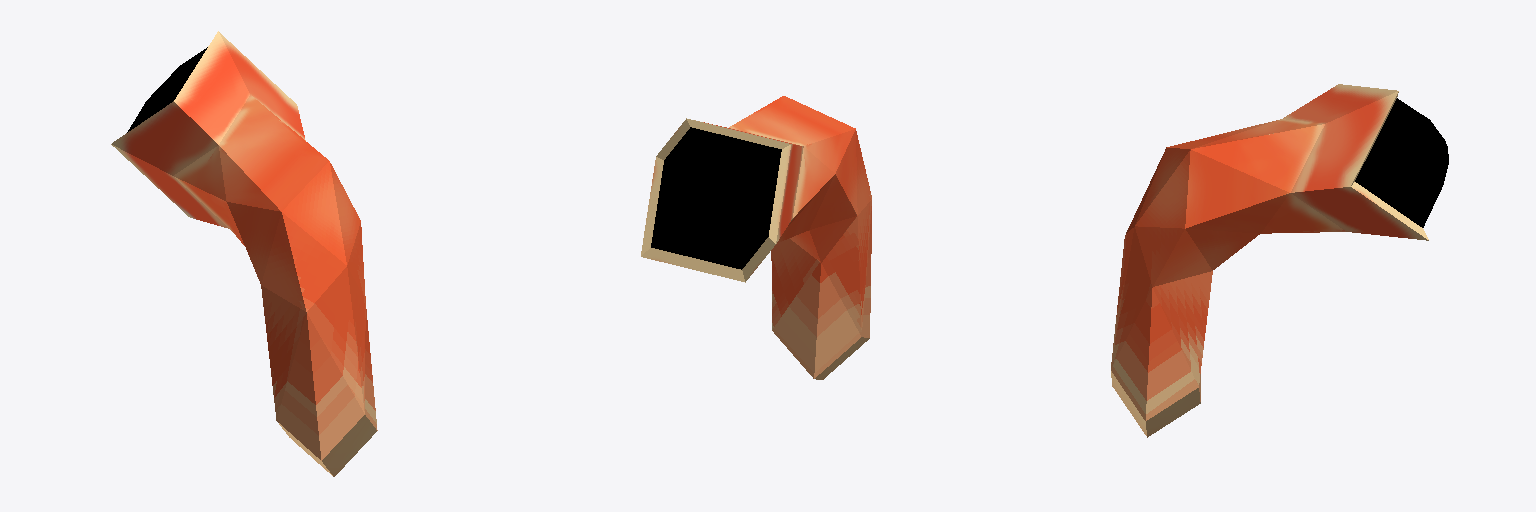
3 views of the same model, side by side, from view 1: azimuth 30°, elevation 25°; view 2: azimuth 150°, elevation 25°; view 3: azimuth 270°, elevation 25° (orthographic).
Visible parts, largest first — view 1: Cube; view 2: Cube; view 3: Cube.
Part boxes in pixels (x1,y1,x2,y2): Cube: (111, 31, 377, 476); Cube: (641, 96, 871, 379); Cube: (1111, 84, 1448, 437).
Bounding box in the file's own units: 3.13 × 6.86 × 5.99.
Materials: 1 (1 with a texture image).